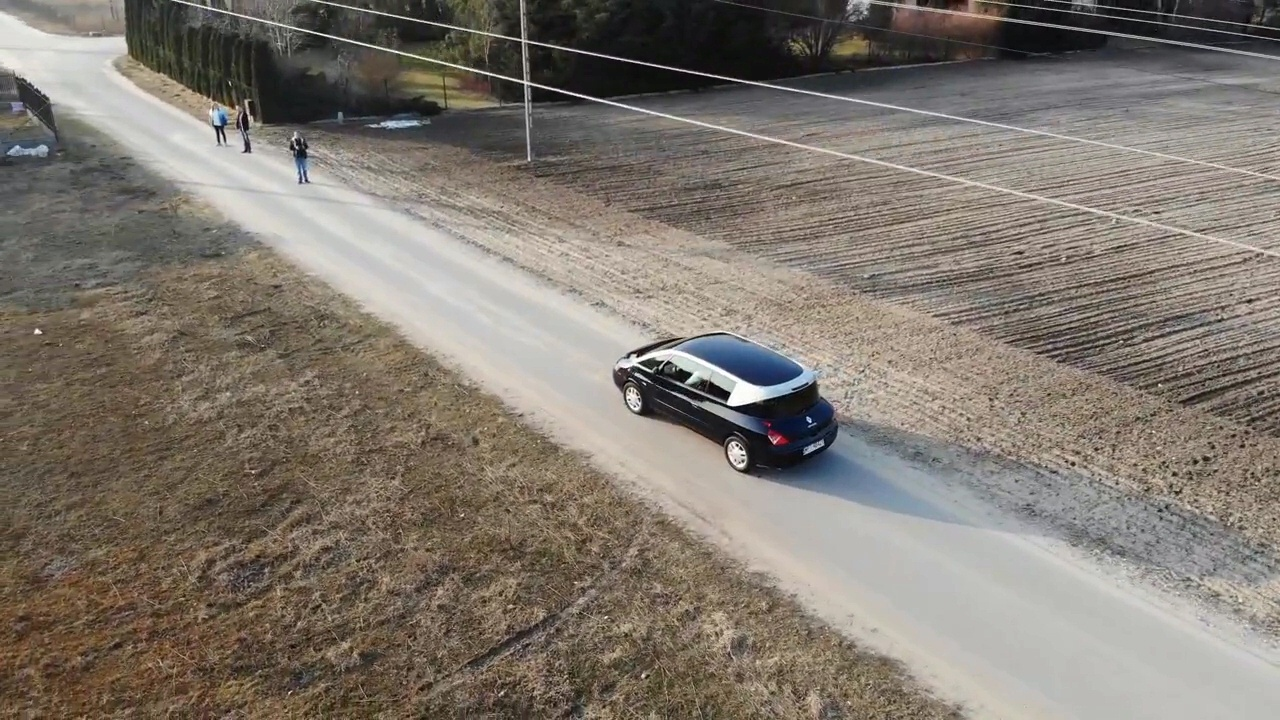araba: (614, 333, 838, 473)
insan: (289, 129, 311, 185), (235, 104, 253, 154), (208, 103, 228, 147)
